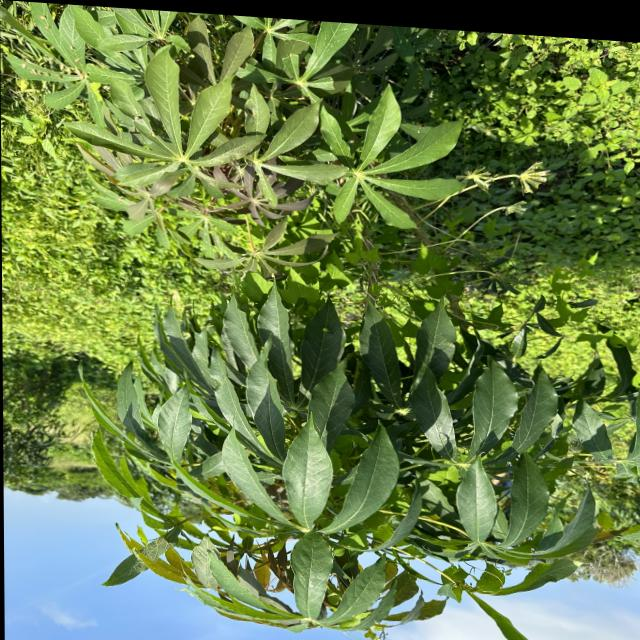Maleza: (475, 35, 640, 190), (9, 190, 140, 354), (550, 122, 640, 352), (0, 317, 89, 503), (349, 238, 558, 309)
Mosca: (32, 65, 73, 79), (38, 9, 58, 33), (65, 43, 83, 66), (320, 319, 333, 339), (131, 110, 148, 124)
